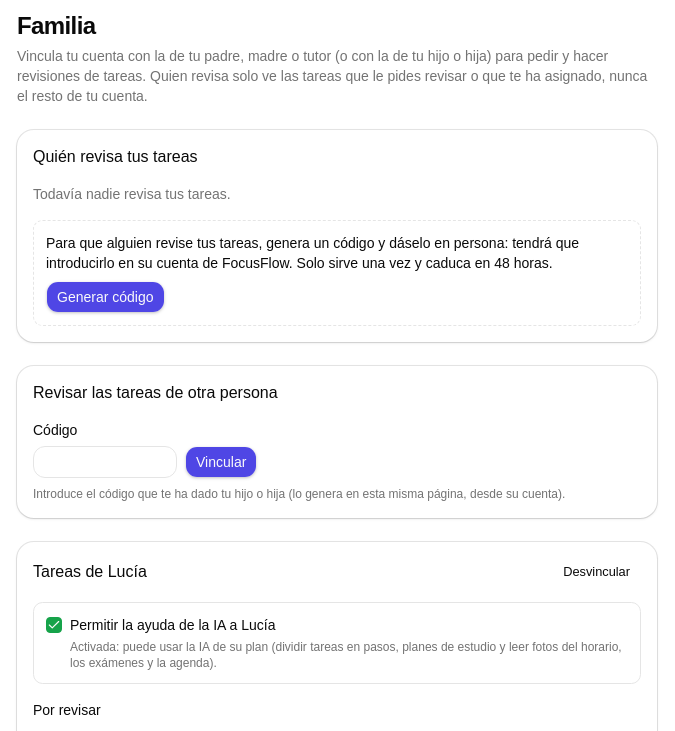
Test: PaginaFamilia › la madre o el padre puede apagar la ayuda de la IA de su hija
The image size is (675, 731).
Click the checkbox named "Permitir la ayuda de la IA a Lucía".
click(54, 625)  # box top-left (46, 617), bottom-right (62, 633)
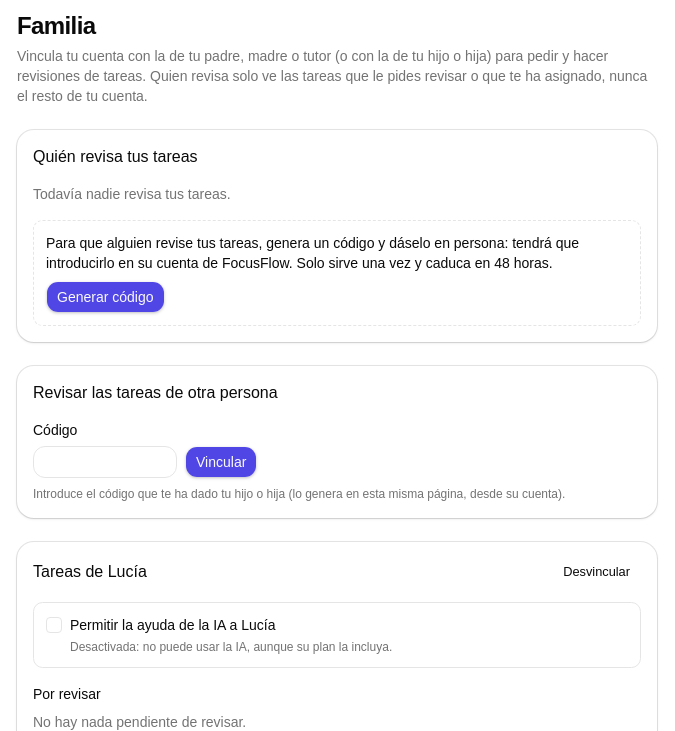
Expected: the text "Desactivada: no puede usar la IA, aunque su plan la incluya." is shown, top-left (70, 640), bottom-right (392, 654)
